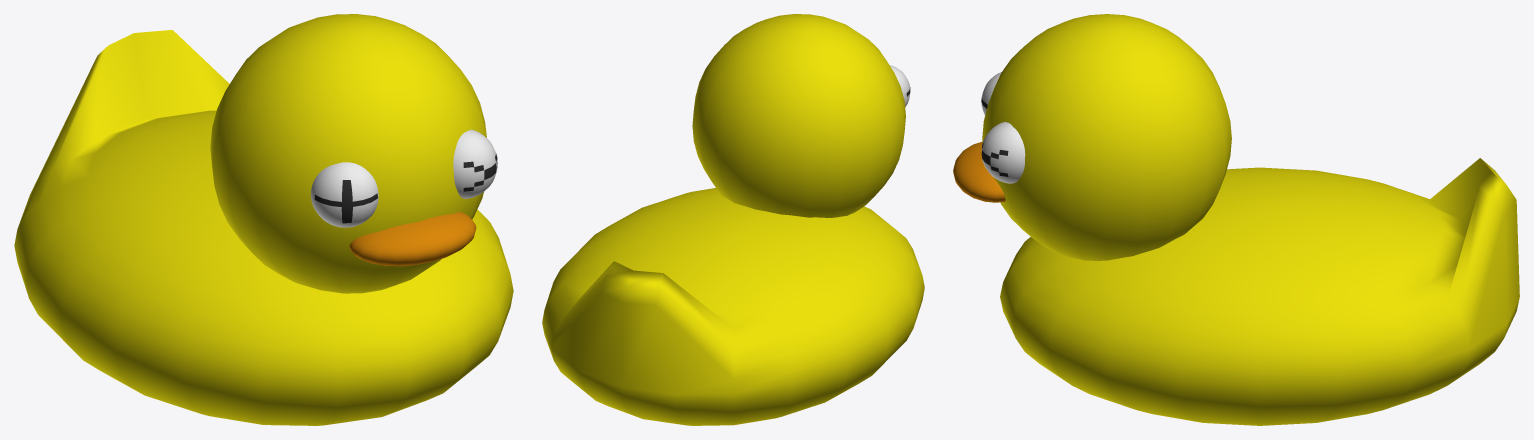
File: RubberDucky.fbx
The picture shows the model from 3 angles, left to right: view 1: azimuth 30°, elevation 25°; view 2: azimuth 150°, elevation 25°; view 3: azimuth 270°, elevation 25°; orthographic projection. The views are drawn at different scales.
Visible parts, largest first — view 1: pSphere6; view 2: pSphere6; view 3: pSphere6.
Part boxes in pixels (x1,y1,x2,y2): pSphere6: [14, 14, 513, 425]; pSphere6: [542, 14, 924, 425]; pSphere6: [953, 14, 1519, 425].
Size of the model in its own units: 1.41 by 1.37 by 1.92.
